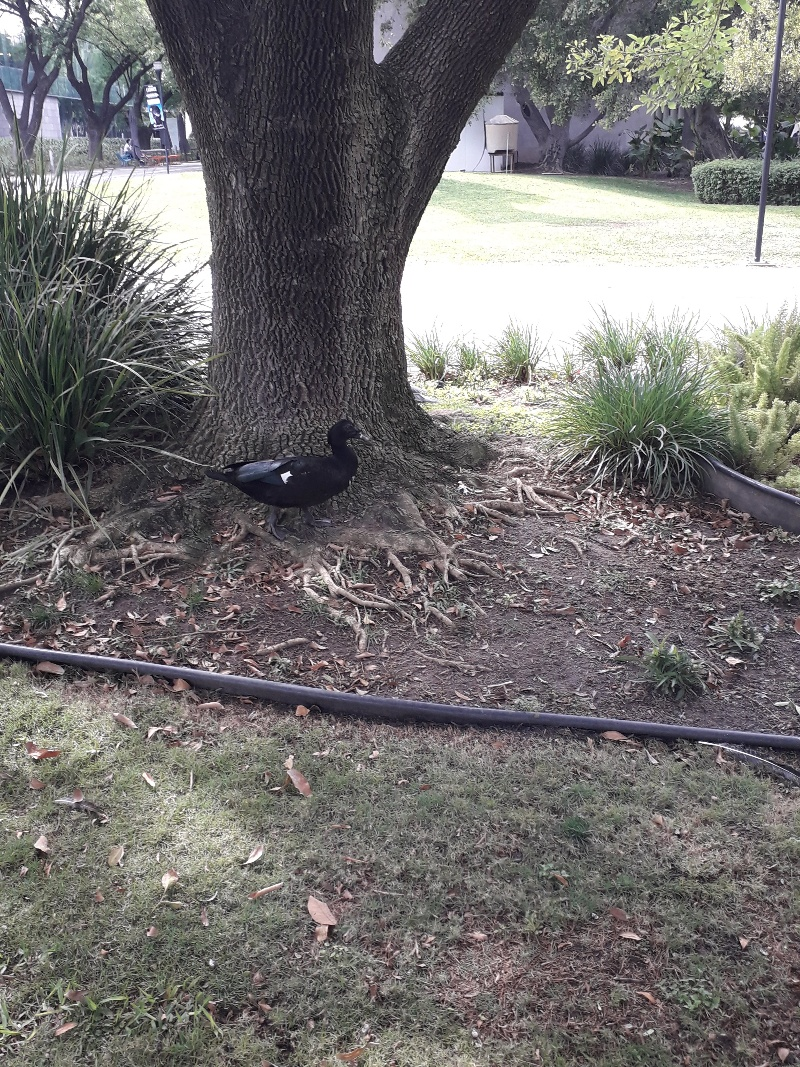pato: (218, 415, 374, 512)
